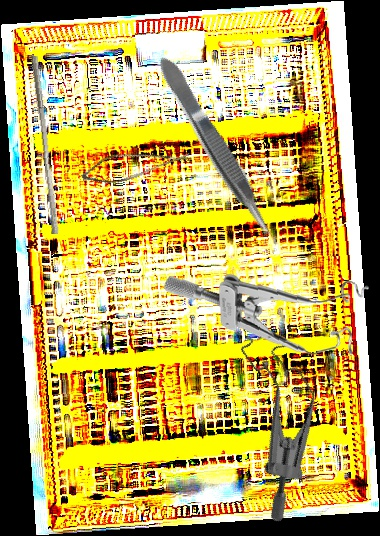Micro Scissor: (78, 127, 193, 201)
Pusher: (23, 55, 66, 235)
Speculum: (184, 318, 364, 525), (162, 265, 375, 365)
Tissue Forceps: (153, 50, 282, 247)
